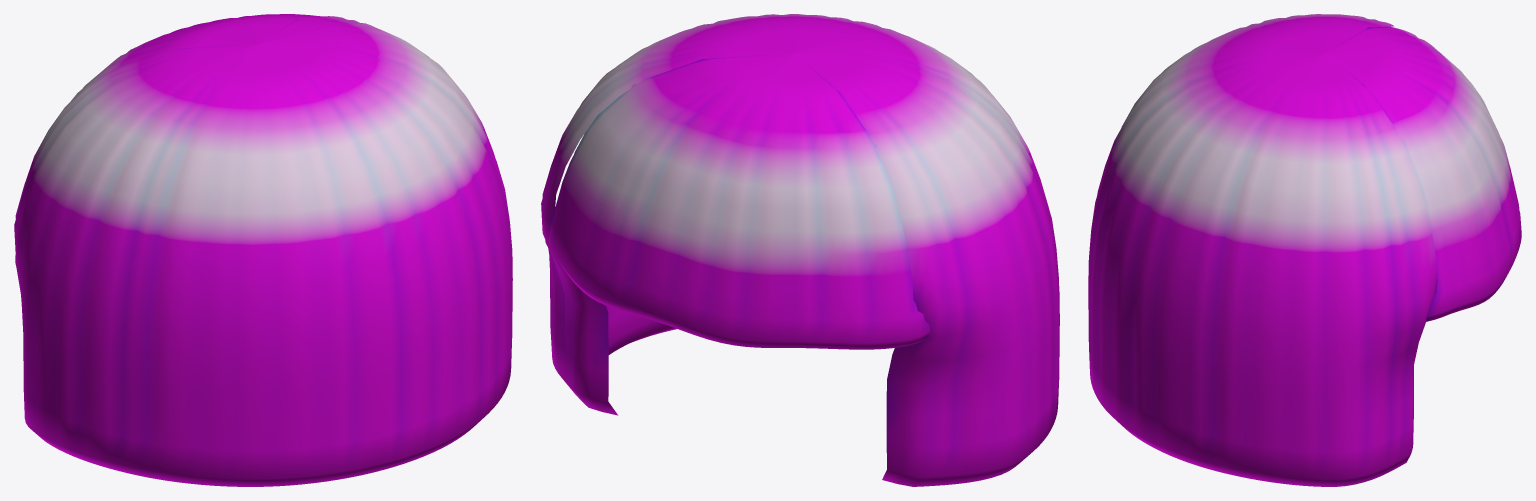
The model's file is bob.glb.
3 renders of one model, left to right at view 1: azimuth 30°, elevation 25°; view 2: azimuth 150°, elevation 25°; view 3: azimuth 270°, elevation 25°, orthographic. The views are drawn at different scales.
Parts seen in each view (by area): view 1: bob; view 2: bob; view 3: bob.
Boxes of the visible parts, x1,y1,x2,y2 form: bob: [14, 14, 512, 486]; bob: [541, 14, 1059, 486]; bob: [1088, 14, 1521, 486].
Size of the model in its own units: 1.12 by 0.826 by 0.962.
